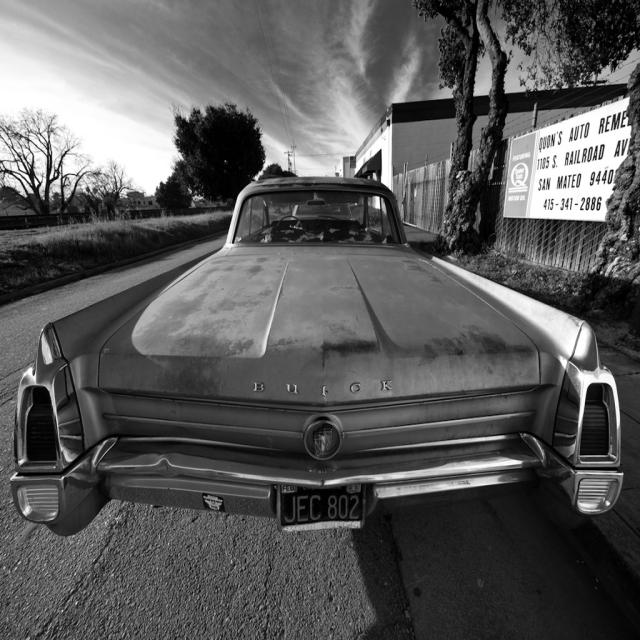car: (10, 177, 625, 535)
